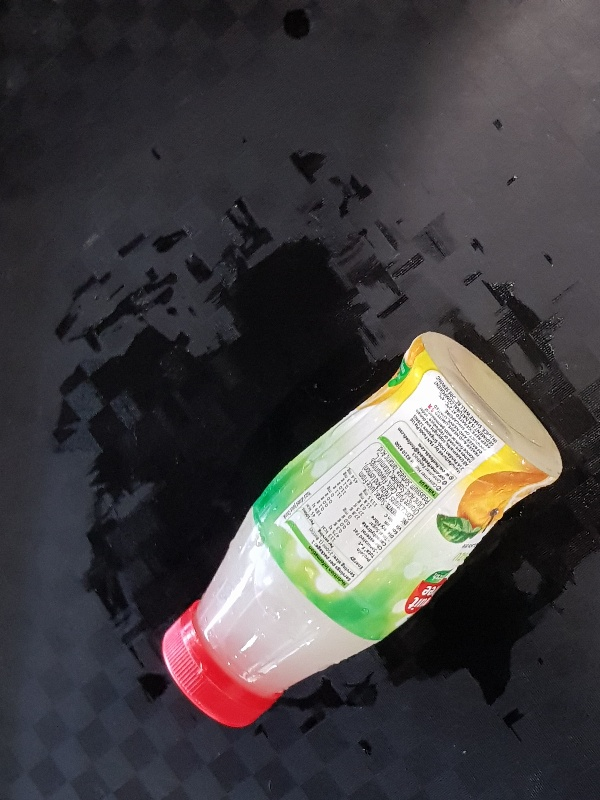Fruit Tree Yuzu Mixed Juice Drink: (161, 329, 560, 730)
